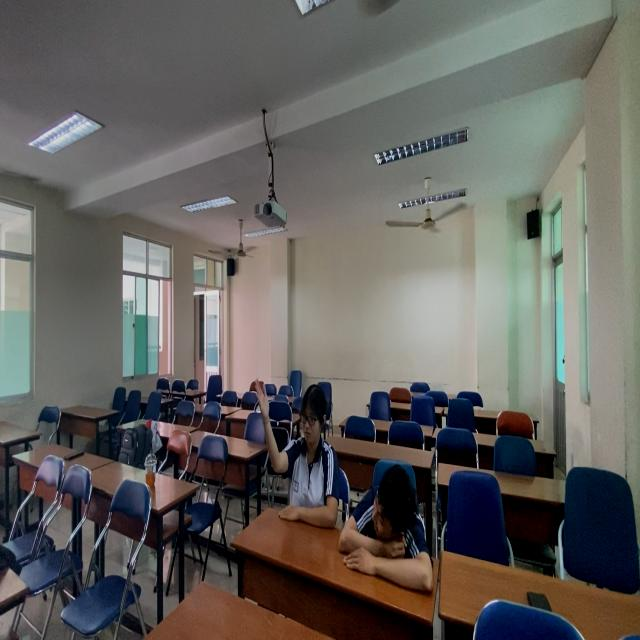raise_hand: (256, 362, 338, 517)
sleep: (344, 458, 440, 592)
